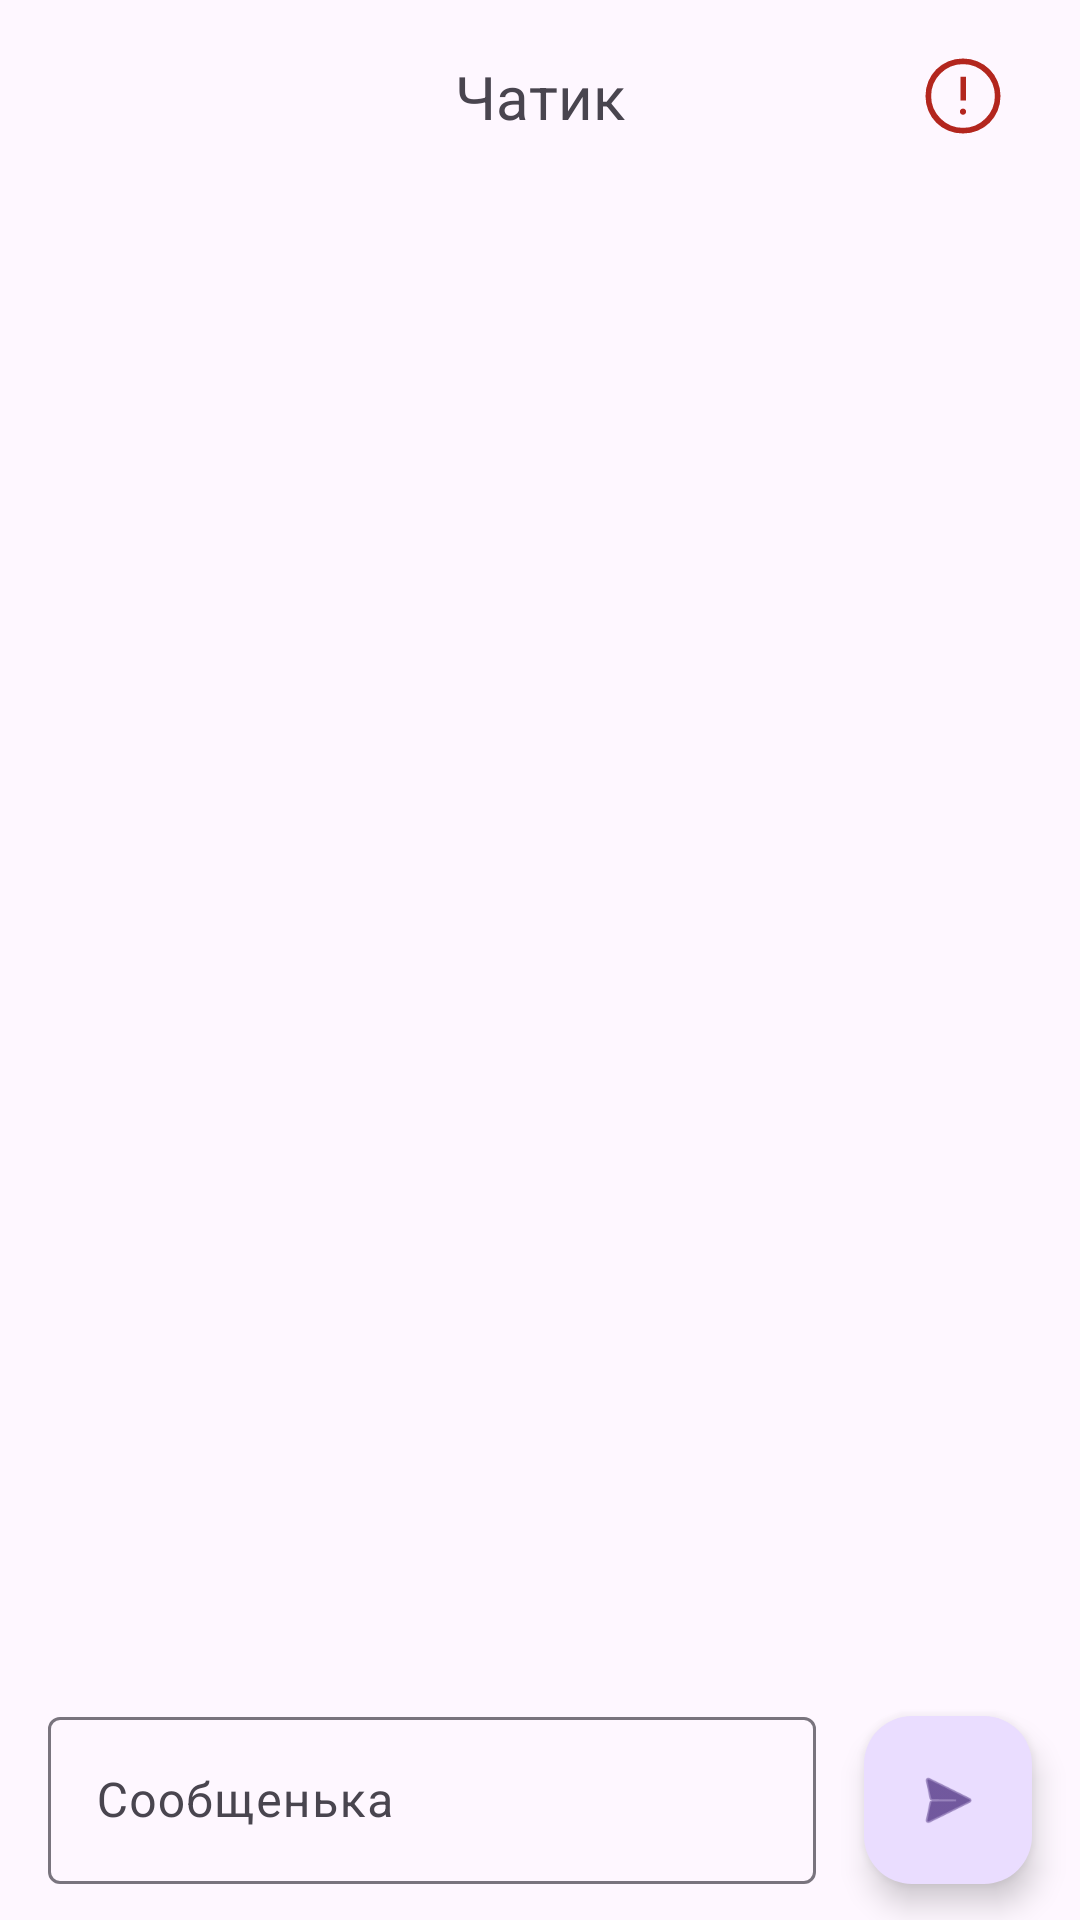

Where icons sit on this 1080 × 1920 app screen, as (x1,y1,x2,y2):
error: (925,58,1001,134)
send: (864,1716,1032,1884)
